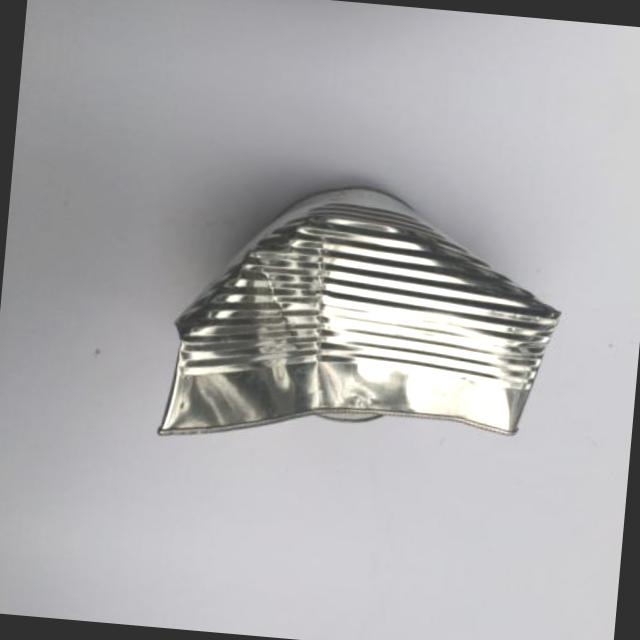Metal: (128, 162, 588, 494)
